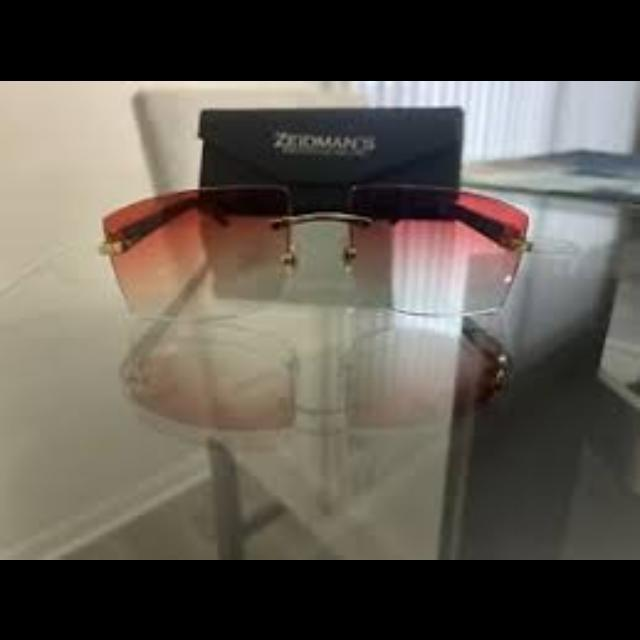glasses: (96, 178, 534, 322)
